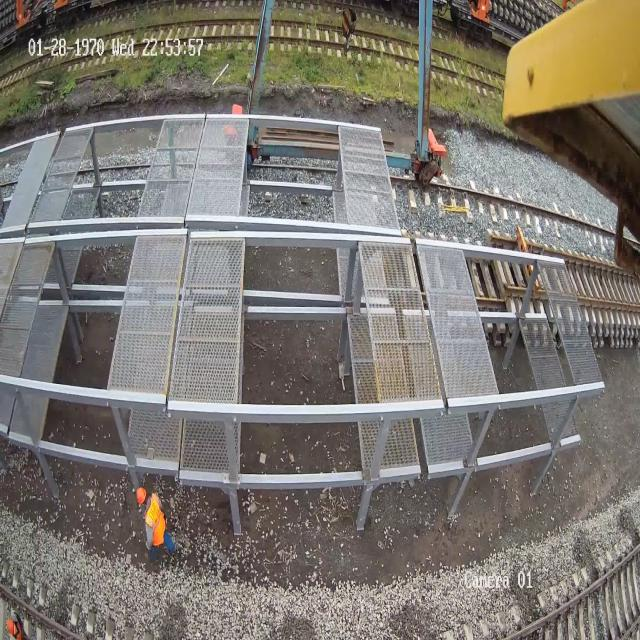Helmet: (136, 486, 146, 505)
Person: (136, 487, 175, 561)
